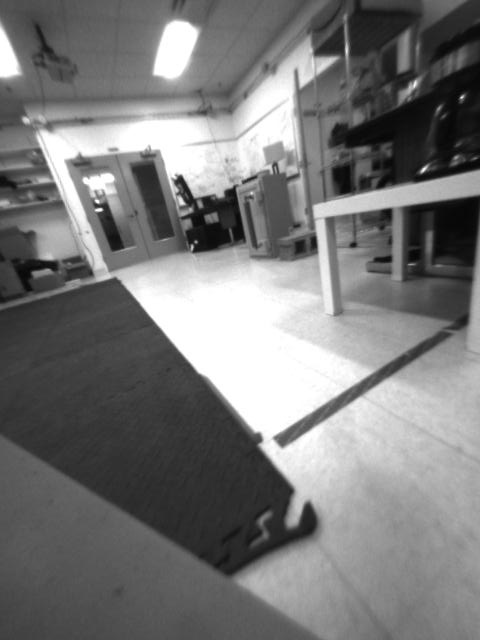coffee_pot: (414, 26, 480, 179)
